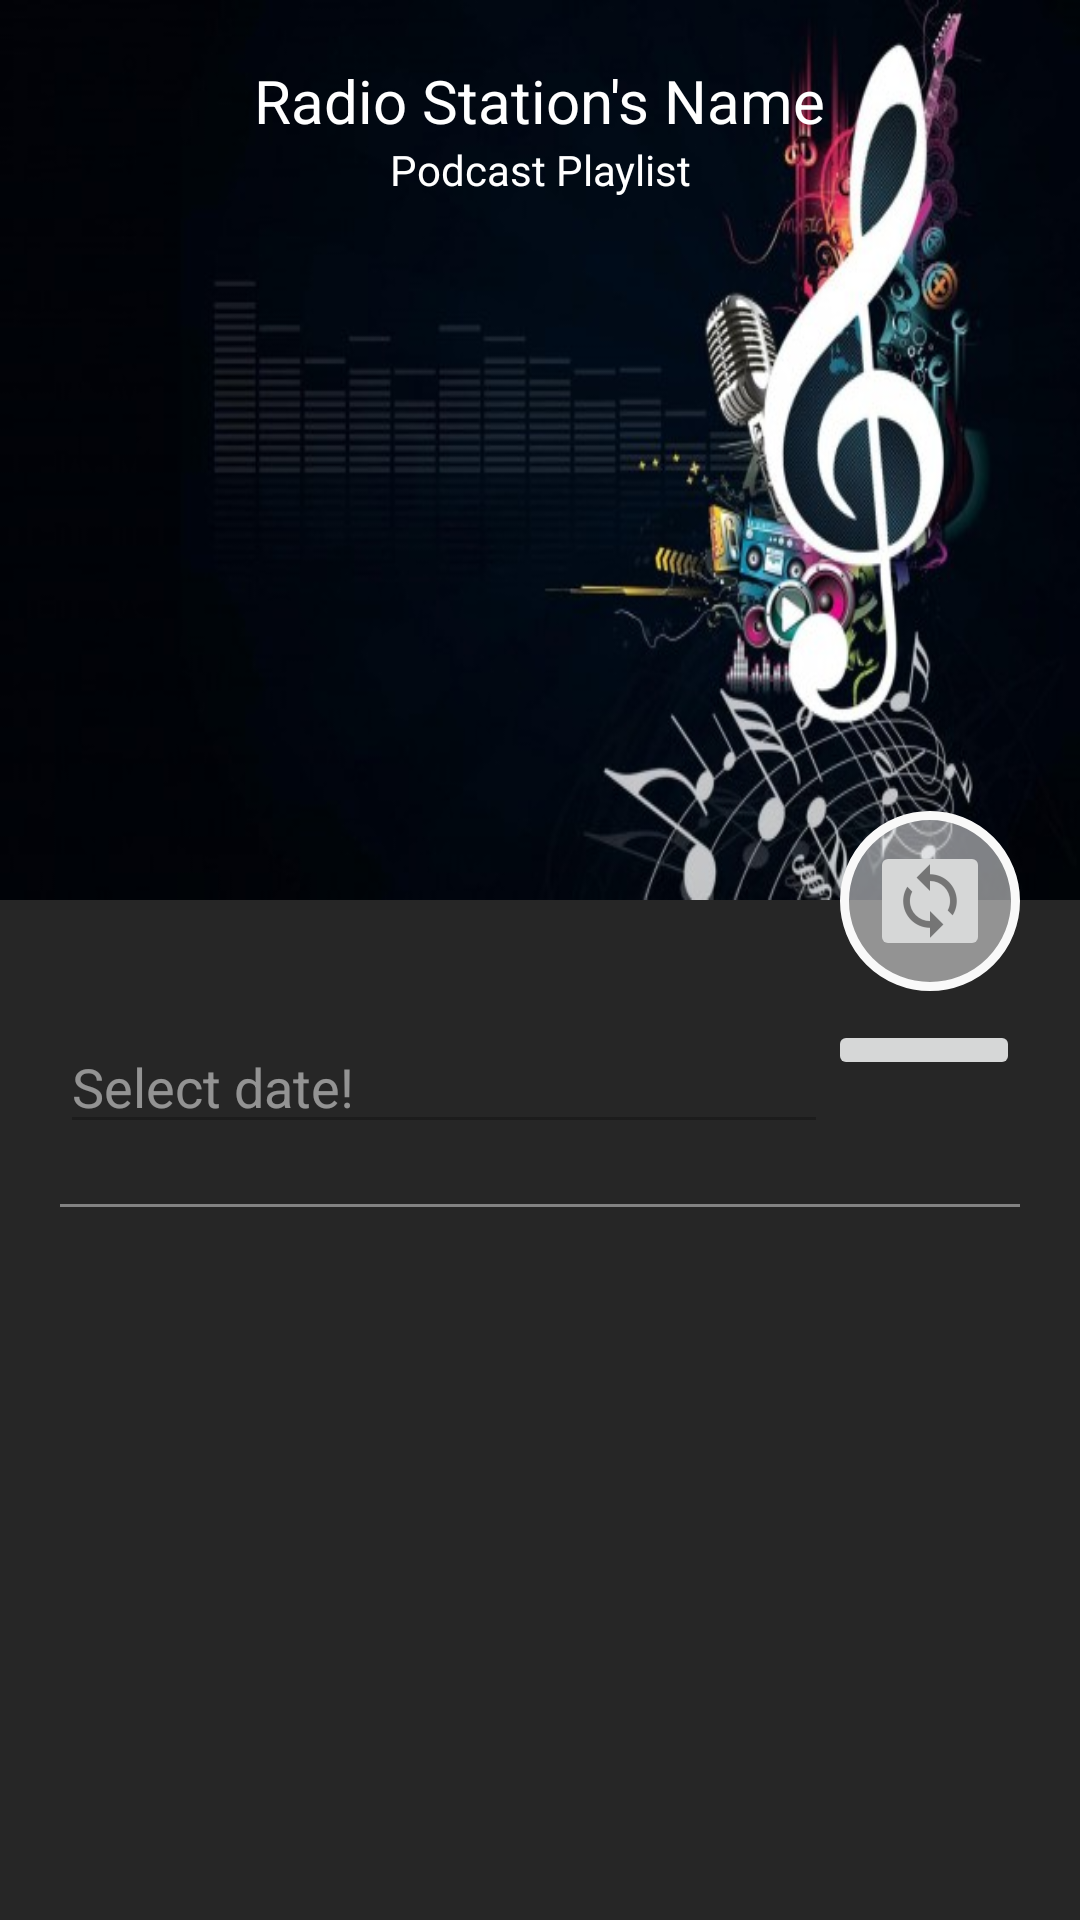

Icon bounding boxes for this 1080×1920 phone screenshot, format (x1, y1, x2, y2):
syncdata: (882, 841, 978, 943)
